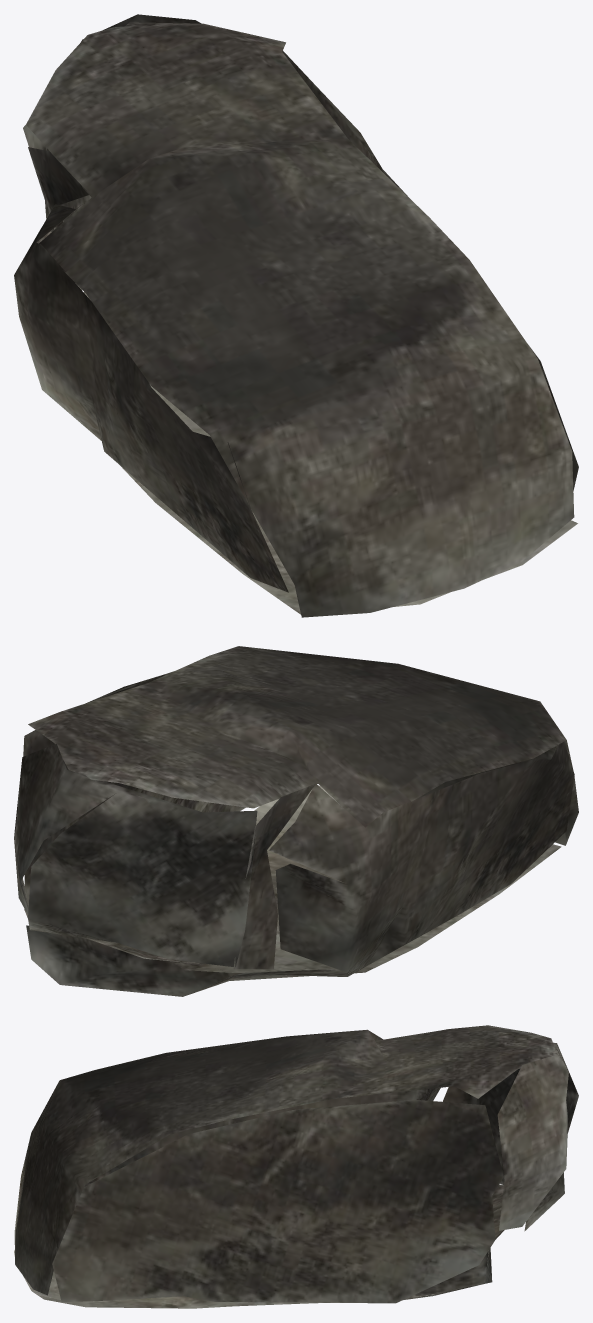
Rendered from rock_c_lo.glb.
3 renders of one model, top to bottom at view 1: azimuth 30°, elevation 25°; view 2: azimuth 150°, elevation 25°; view 3: azimuth 270°, elevation 25°, orthographic. The views are drawn at different scales.
Parts seen in each view (by area): view 1: rock_07; view 2: rock_07; view 3: rock_07.
Part boxes in pixels (bbox=[...]): rock_07: bbox=[14, 14, 578, 617]; rock_07: bbox=[14, 646, 578, 996]; rock_07: bbox=[14, 1025, 578, 1308].
Size of the model in its own units: 0.5274 by 0.4395 by 0.983.
1 material, 1 textured.
